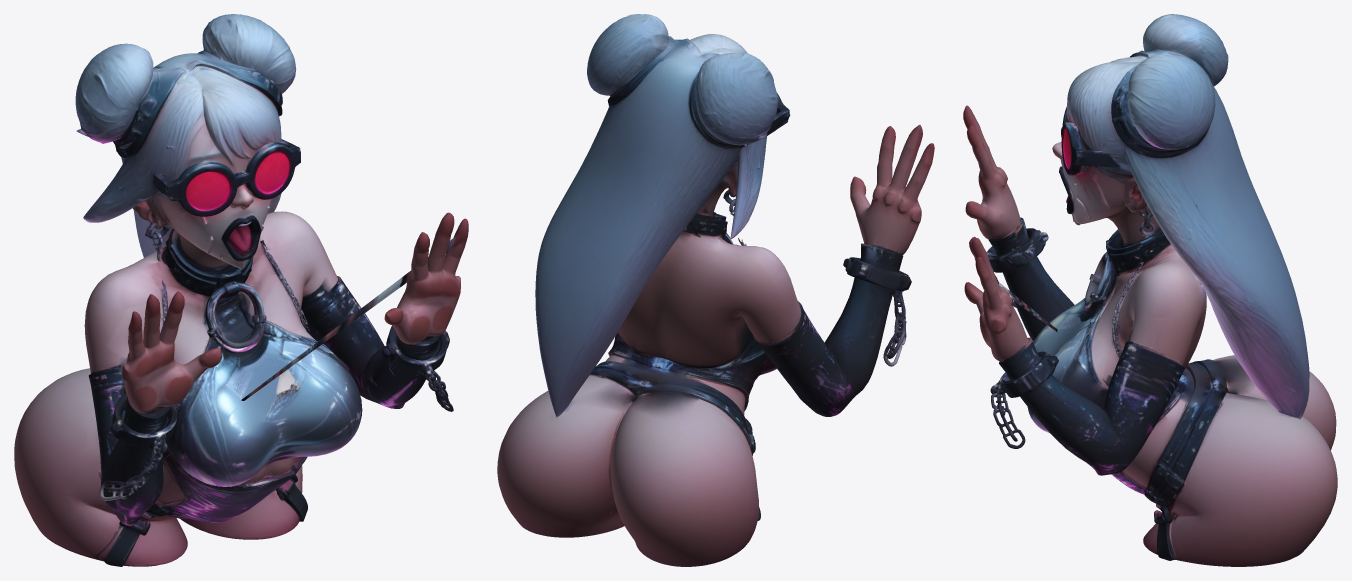
File: 01a1980b-d239-7eba-9f5b-0f78f528d602.glb
3 renders of one model, left to right at view 1: azimuth 30°, elevation 25°; view 2: azimuth 150°, elevation 25°; view 3: azimuth 270°, elevation 25°, orthographic. The views are drawn at different scales.
Parts seen in each view (by area): view 1: node_0; view 2: node_0; view 3: node_0.
Boxes of the visible parts, x1,y1,x2,y2 form: node_0: [14, 14, 468, 566]; node_0: [497, 14, 934, 566]; node_0: [963, 14, 1337, 566].
Bounding box in the file's own units: 0.7003 × 0.9906 × 0.7089.
Materials: 1 (1 with a texture image).
